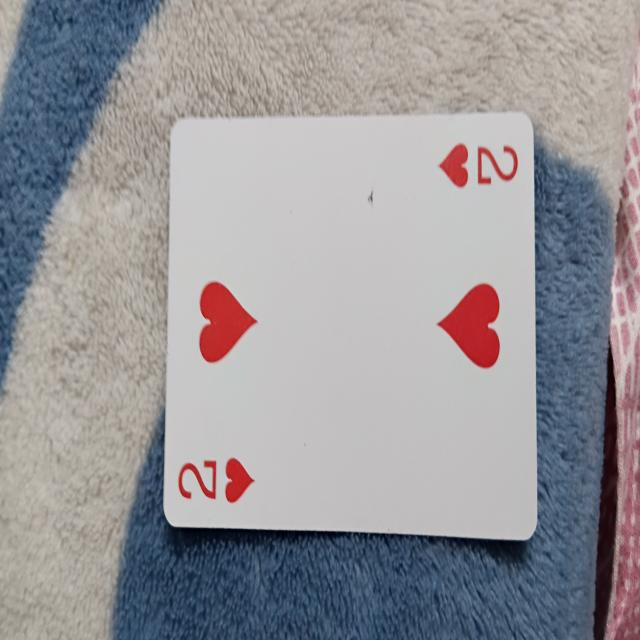2H: (170, 121, 539, 531)
